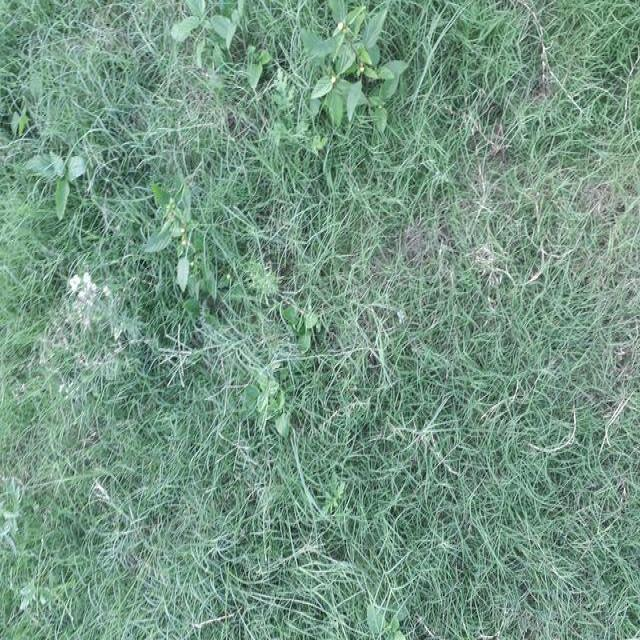weed: (298, 14, 396, 145), (144, 162, 206, 298), (15, 130, 81, 210), (163, 1, 236, 60), (252, 365, 290, 448)
